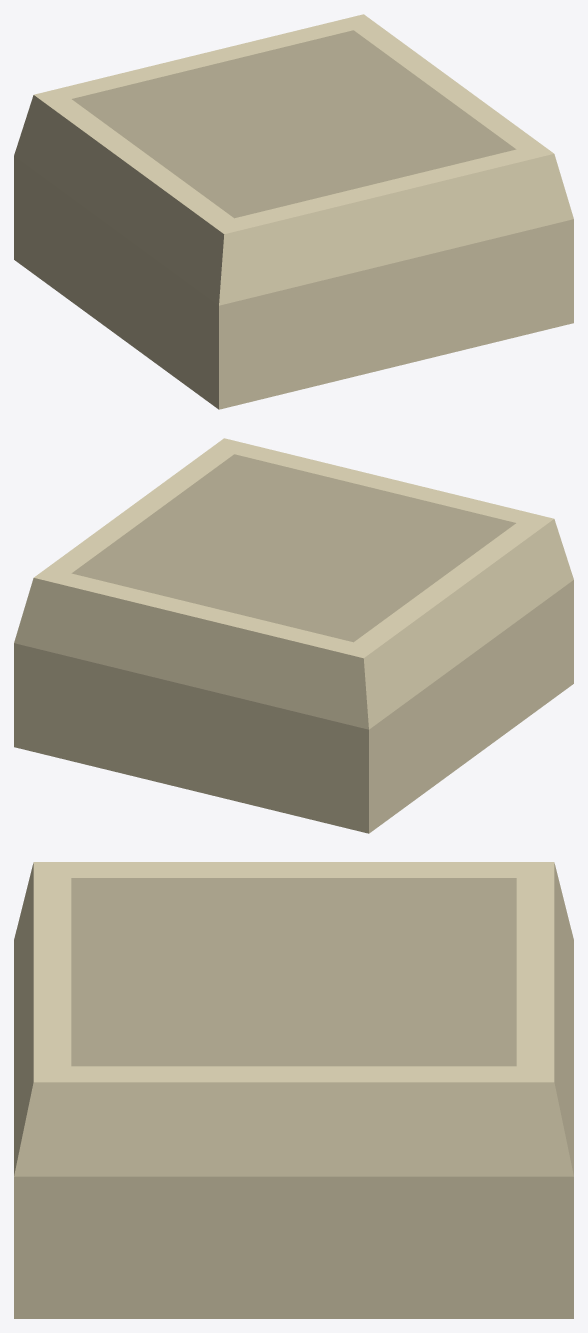
The model's file is towerSquareBaseBorder.fbx.
3 views of the same model, one above another, from view 1: azimuth 30°, elevation 25°; view 2: azimuth 150°, elevation 25°; view 3: azimuth 270°, elevation 25° (orthographic). The views are drawn at different scales.
Parts seen in each view (by area): view 1: towerSquareBaseBorder; view 2: towerSquareBaseBorder; view 3: towerSquareBaseBorder.
Boxes of the visible parts, left/top/right/bottom form: towerSquareBaseBorder: left=14, top=14, right=573, bottom=409; towerSquareBaseBorder: left=14, top=438, right=573, bottom=833; towerSquareBaseBorder: left=14, top=862, right=573, bottom=1318.
Bounding box in the file's own units: 10 × 4.5 × 10.
